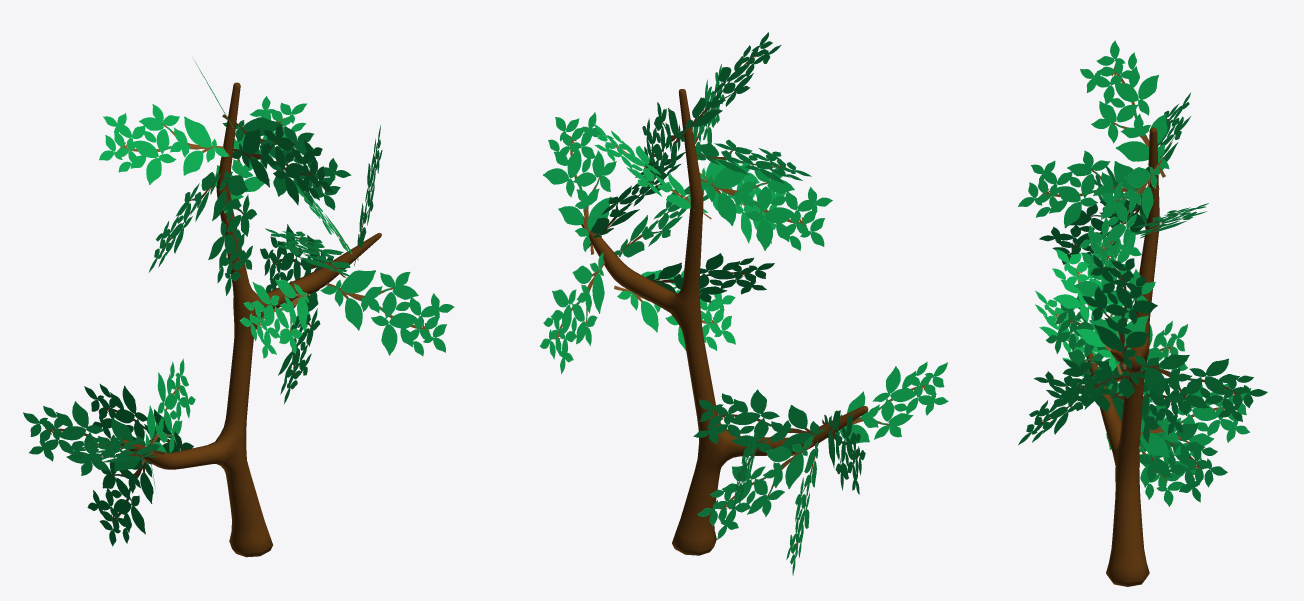
The model's file is Small shrub.fbx.
3 views of the same model, side by side, from view 1: azimuth 30°, elevation 25°; view 2: azimuth 150°, elevation 25°; view 3: azimuth 270°, elevation 25° (orthographic). The views are drawn at different scales.
Visible parts, largest first — view 1: SmallShrub; view 2: SmallShrub; view 3: SmallShrub.
Part boxes in pixels (box(x1,y1,x2,y2)): SmallShrub: box(23, 58, 454, 557); SmallShrub: box(539, 32, 948, 575); SmallShrub: box(1018, 40, 1267, 586).
Bounding box in the file's own units: 60.66 × 74.29 × 36.41.
